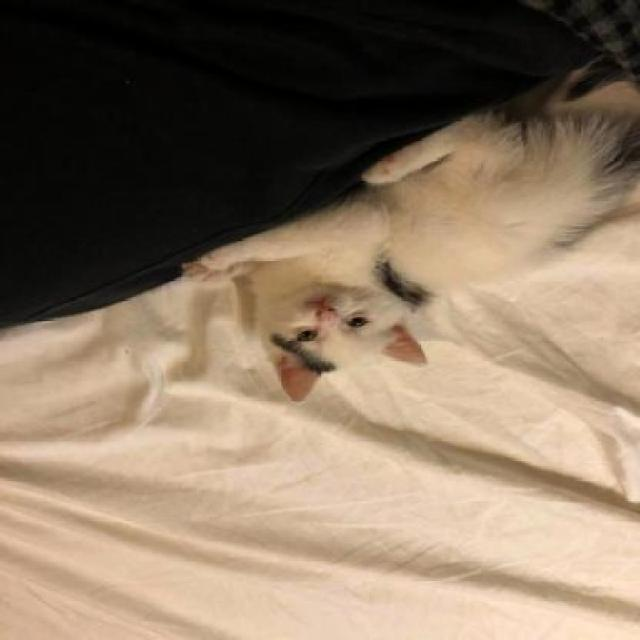cat: (171, 94, 640, 406)
